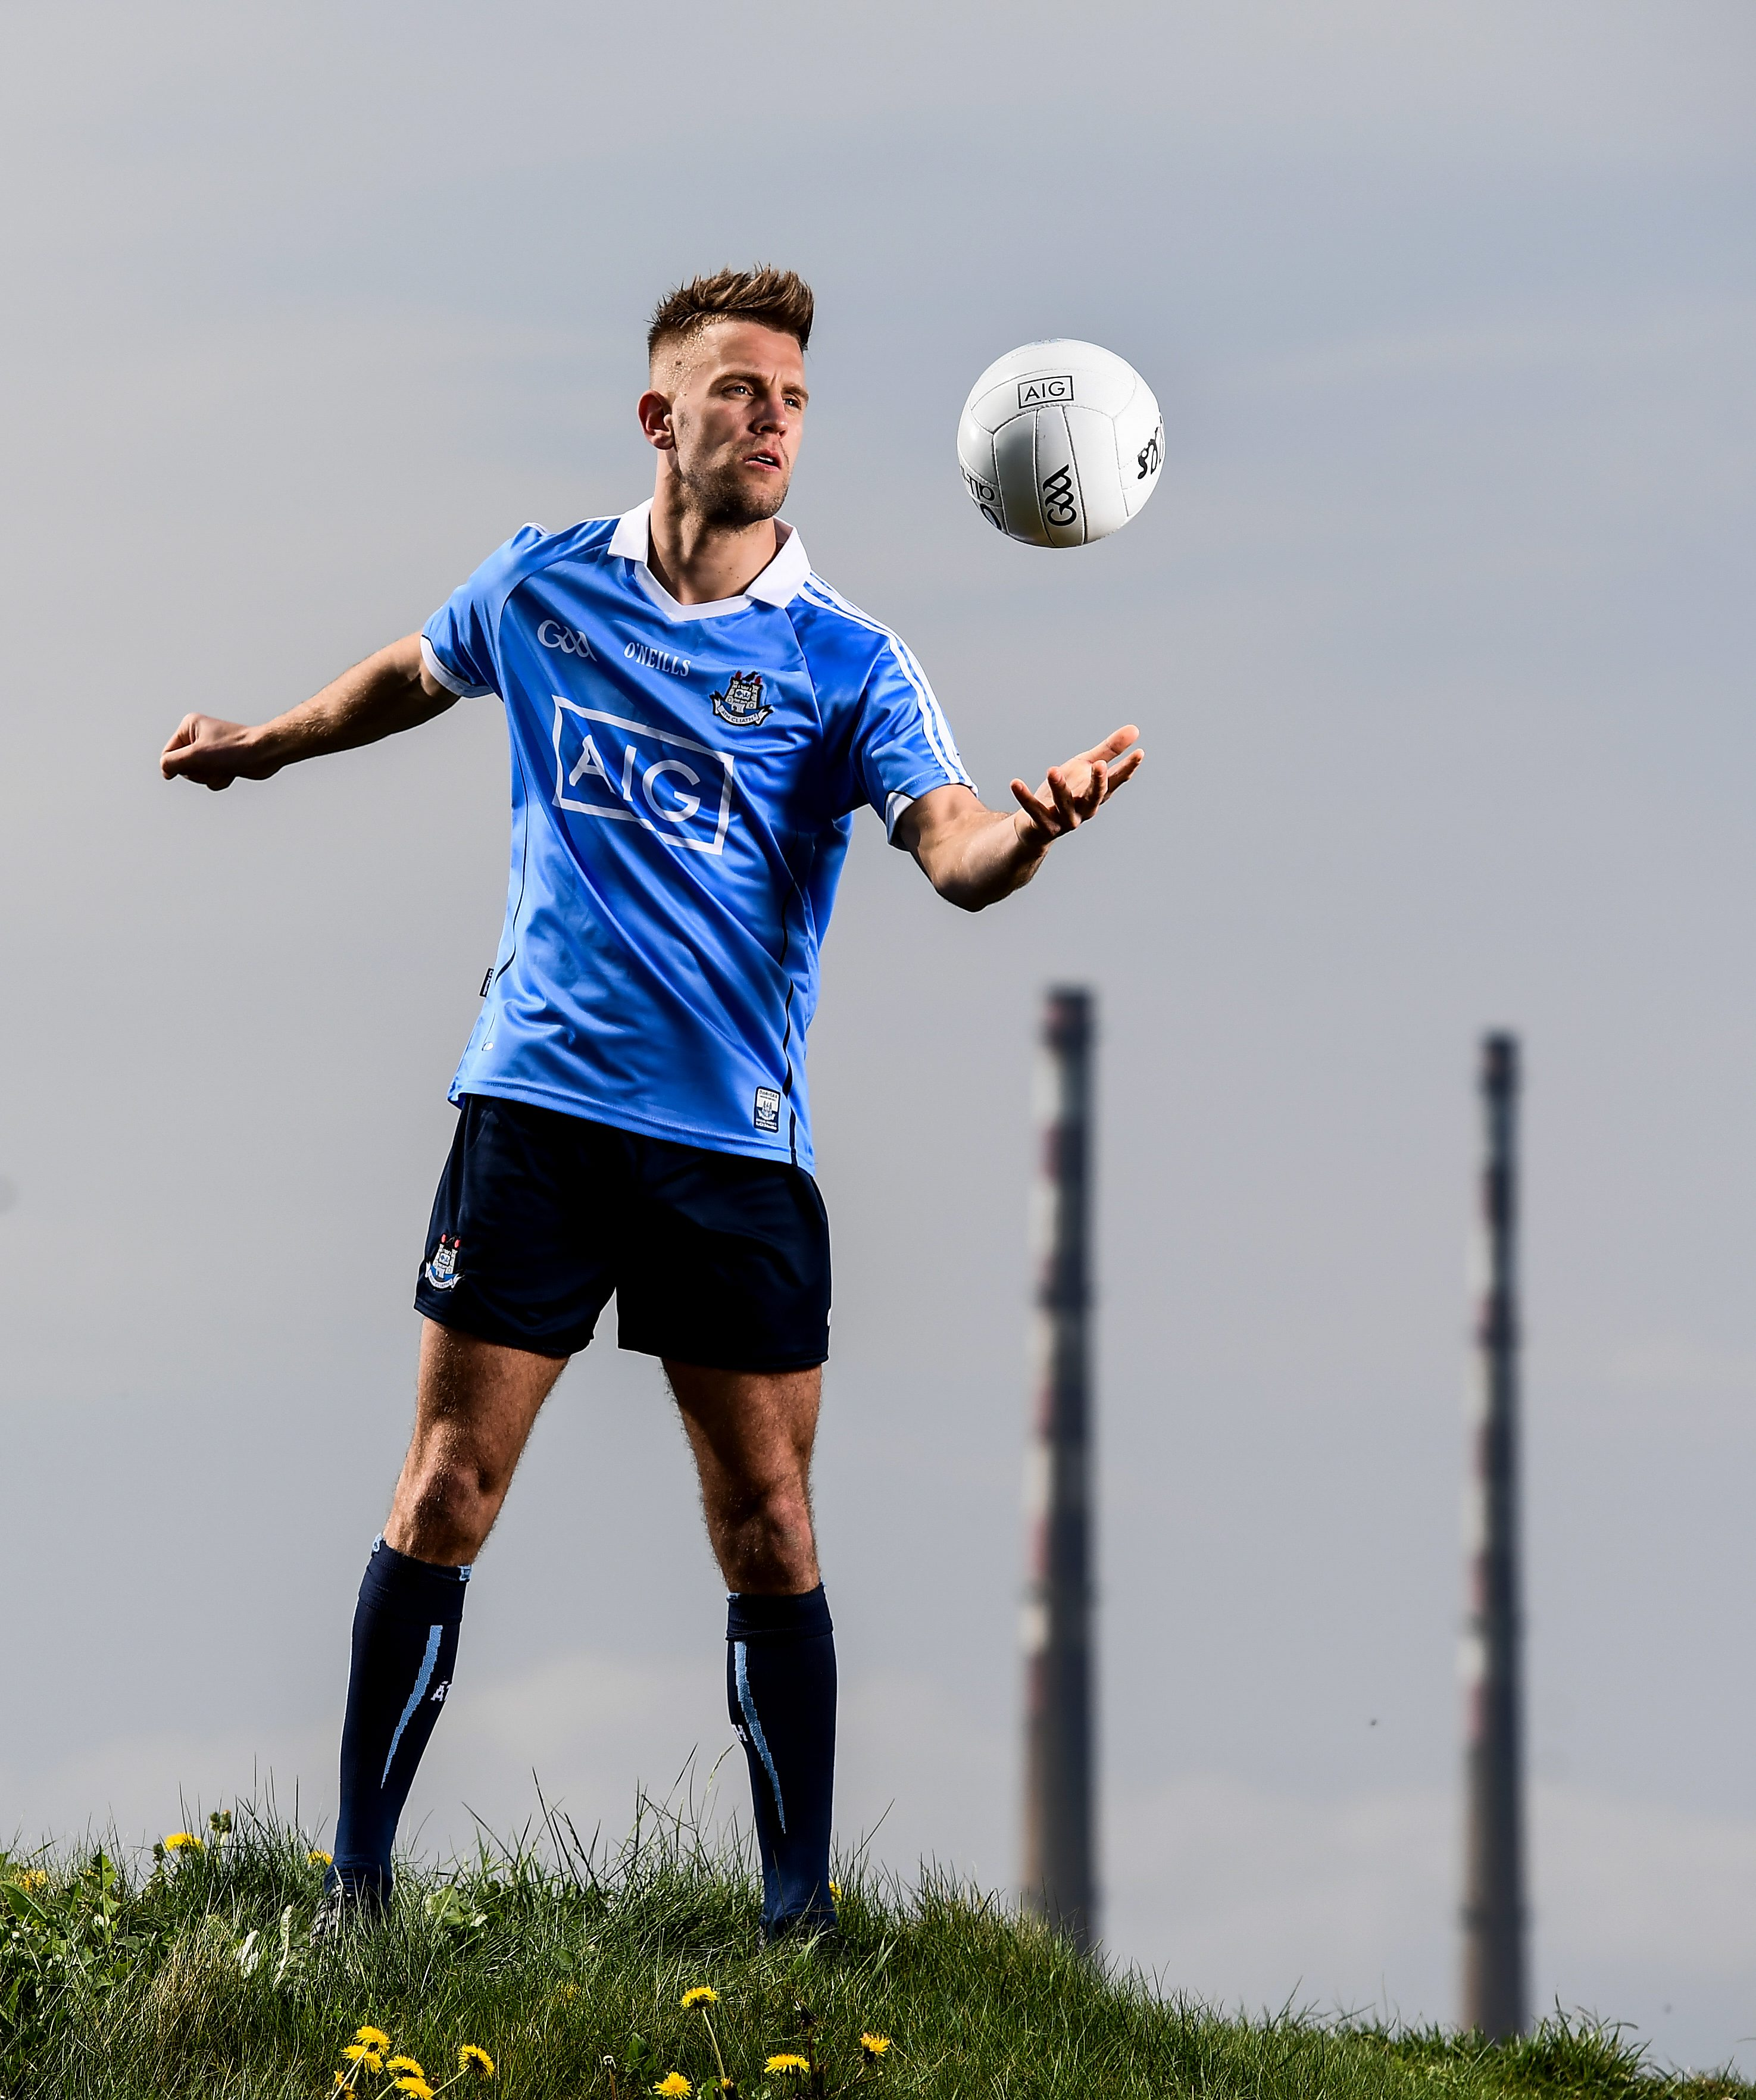ball: (936, 320, 1161, 537)
player: (427, 219, 898, 1943)
